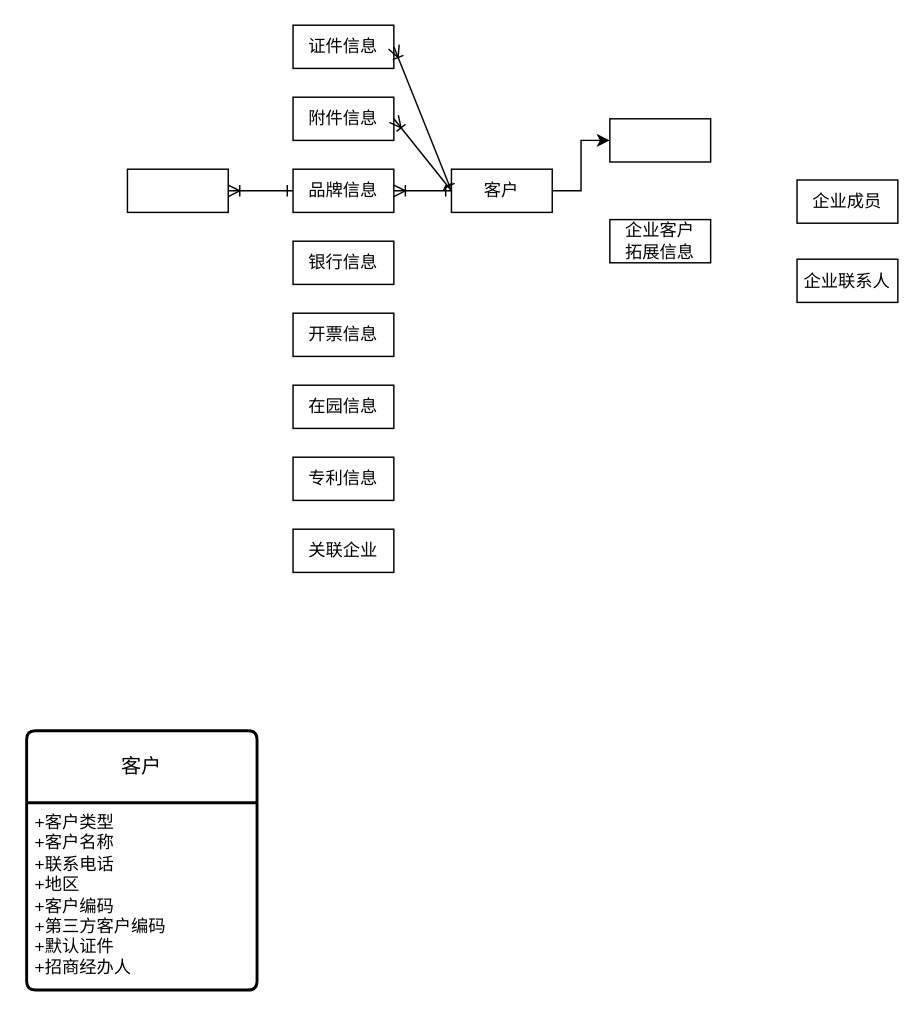
The diagram is 923 pixels wide and 1017 high, and some of its shapes have lost their labels. The shapes that lost their labels are listed below. From the top down, each one's centre as x and y in pixels, then its label:
[659,139]: 个人客户 拓展信息
[177,190]: 品牌联系人
